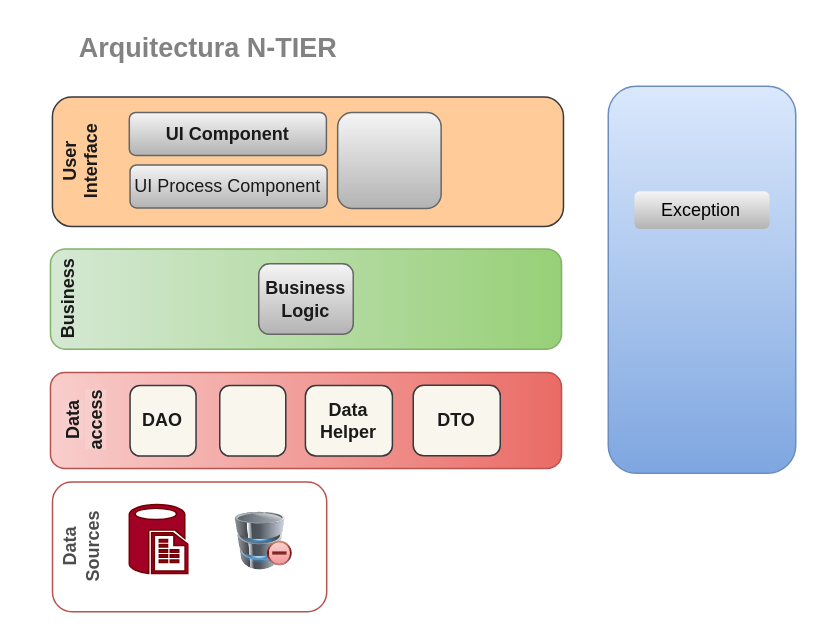
This 824x638 diagram has some shape labels left out. The box of each missing label's shape, as (x1, y1, x2, y2) in pixels:
Controller UIC: (336, 111, 441, 208)
database: (235, 511, 292, 570)
Framework: (607, 85, 796, 473)
IDAO: (218, 384, 286, 456)
SQLITE: (128, 503, 188, 573)
